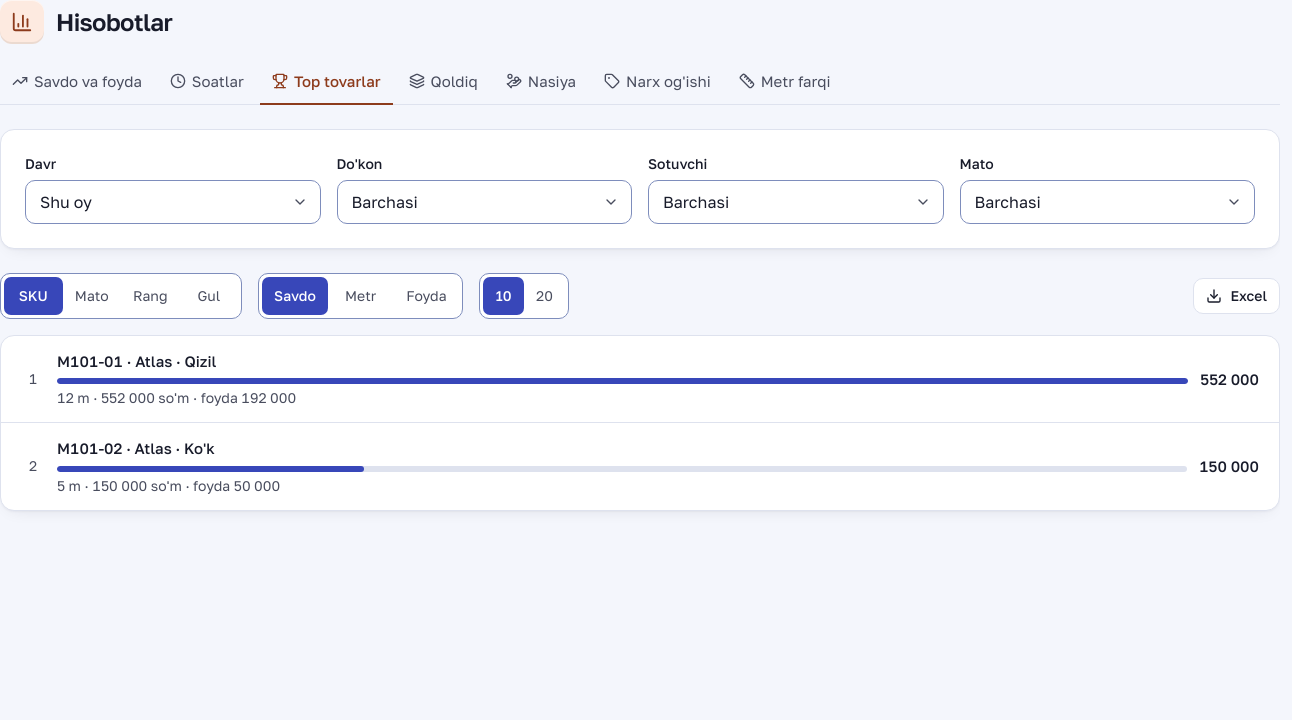
Test: Hisobotlar › top tovarlar: kesim va ko'rsatkich tanlanadi
Expected: the text "552 000" is shown, [1200,368,1259,390]
Expected: the text "foyda 192 000" is shown, [201,389,296,406]
Click the radio button labelled "Rang" at (150, 296), box [121,276,180,314]
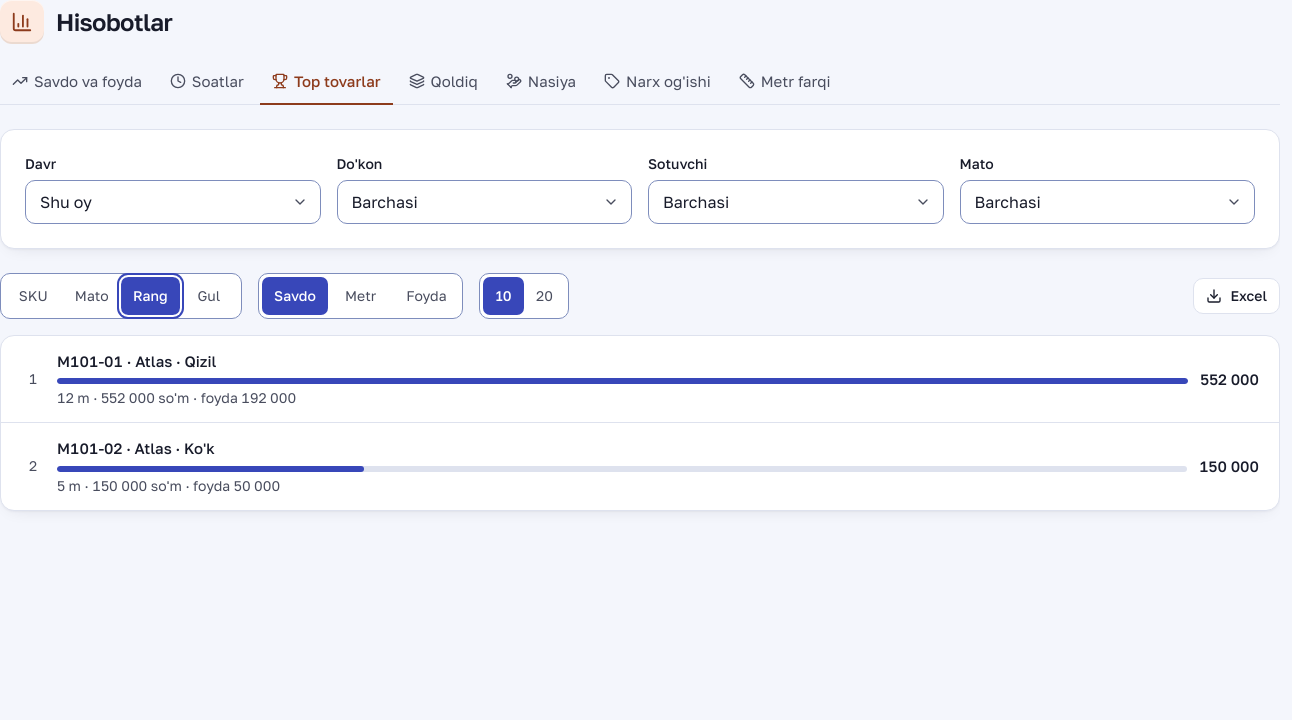
Click the radio button labelled "Metr" at (361, 296), box [328,276,394,314]
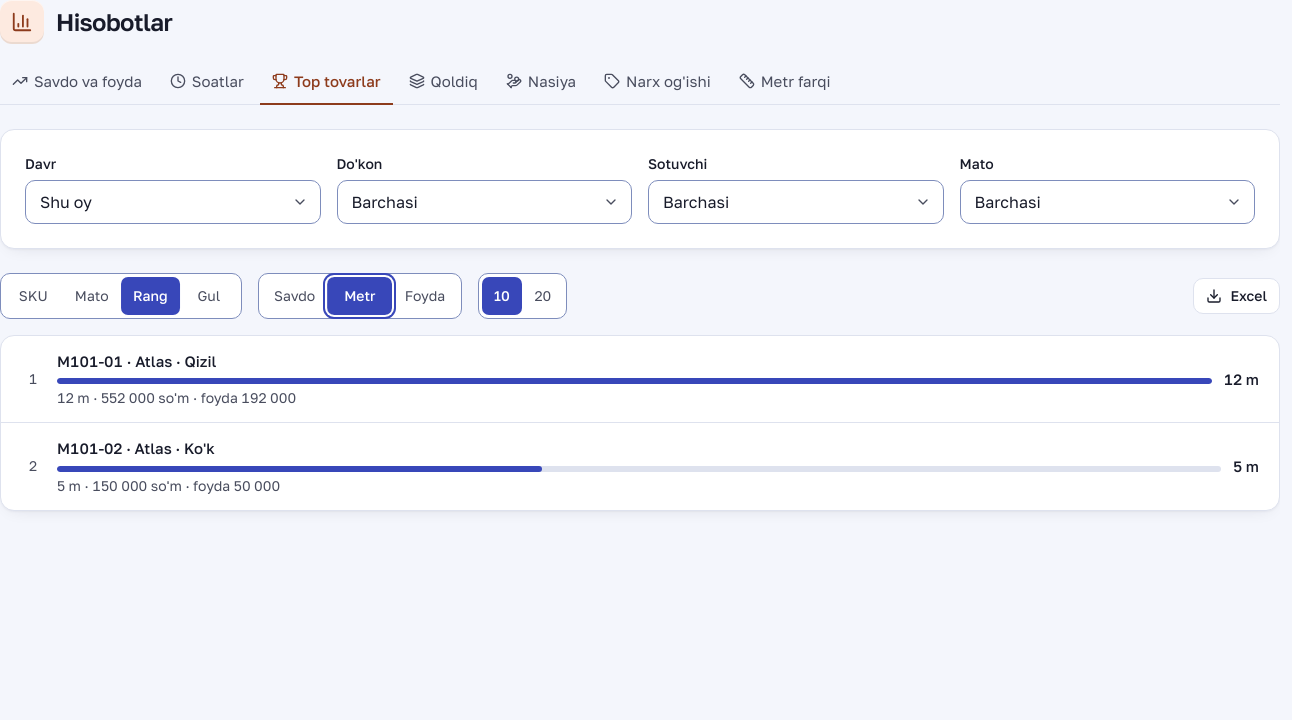
Now the text "12 m" is shown, box [1224,368,1259,390]
